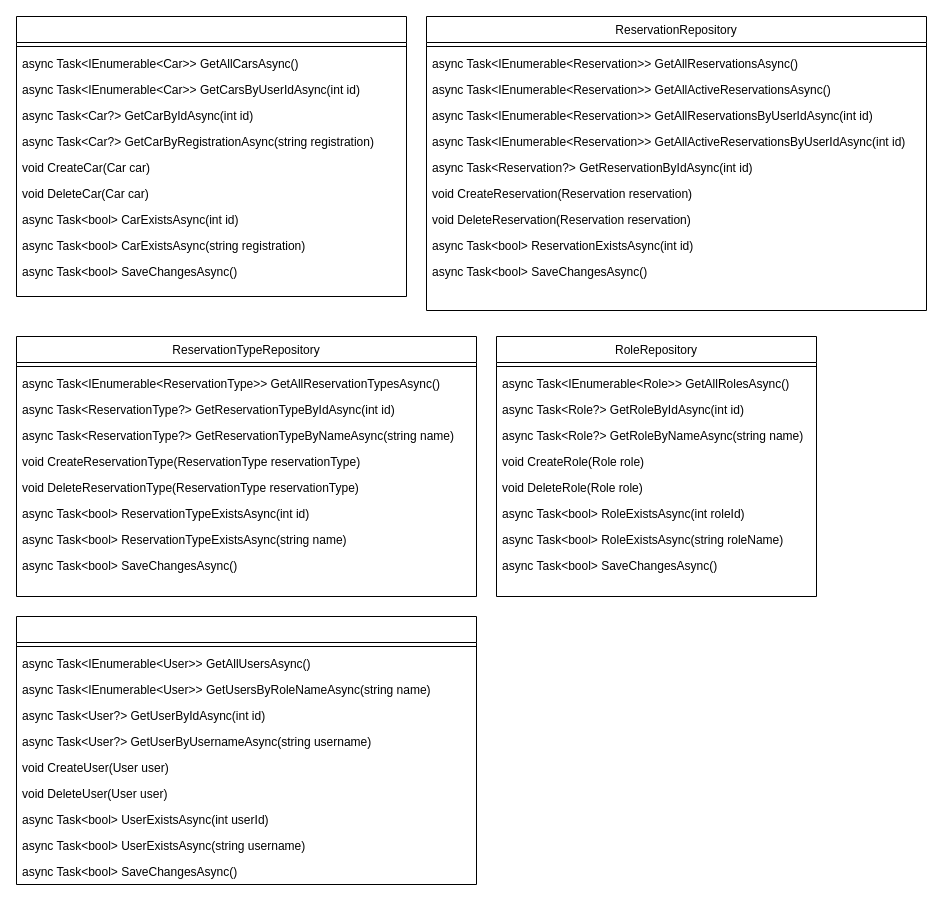
The diagram is 943 pixels wide and 901 high, and some of its shapes have lost their labels. The shapes that lost their labels are listed below. From the top down, each one's box as (x1, y1, x2, y2) in pixels, then its label:
(16, 16, 406, 296): CarRepository
(16, 616, 476, 884): UserRepository
